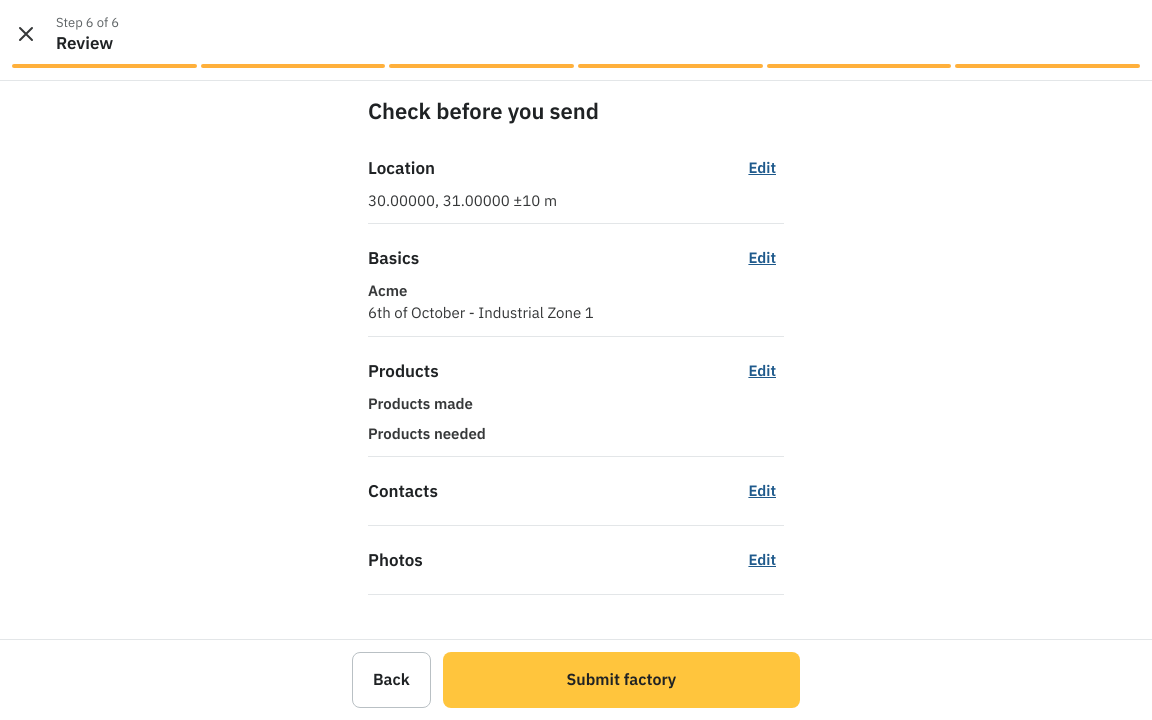
Scenario: FactoryStepper › a quota error on submit shows the service-busy message
Click the button "Submit factory": (621, 680) [443, 652, 800, 708]
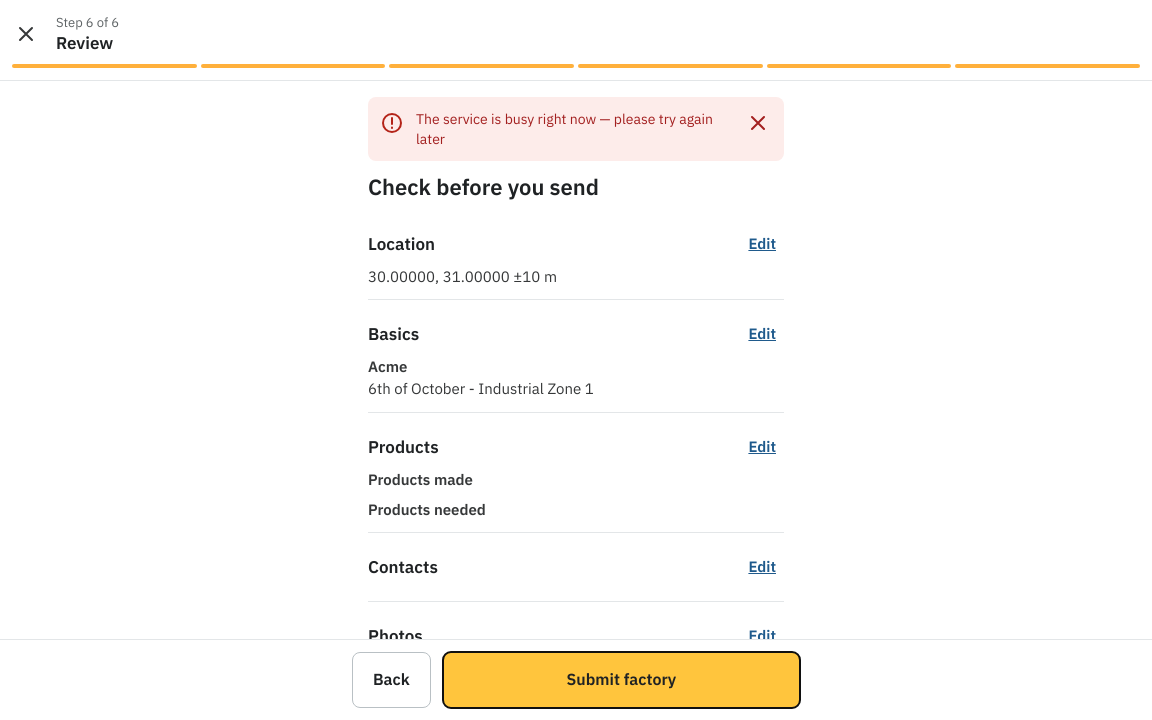
Check: the text "The service is busy right now — please try again later" is shown, box [416, 109, 732, 149]
